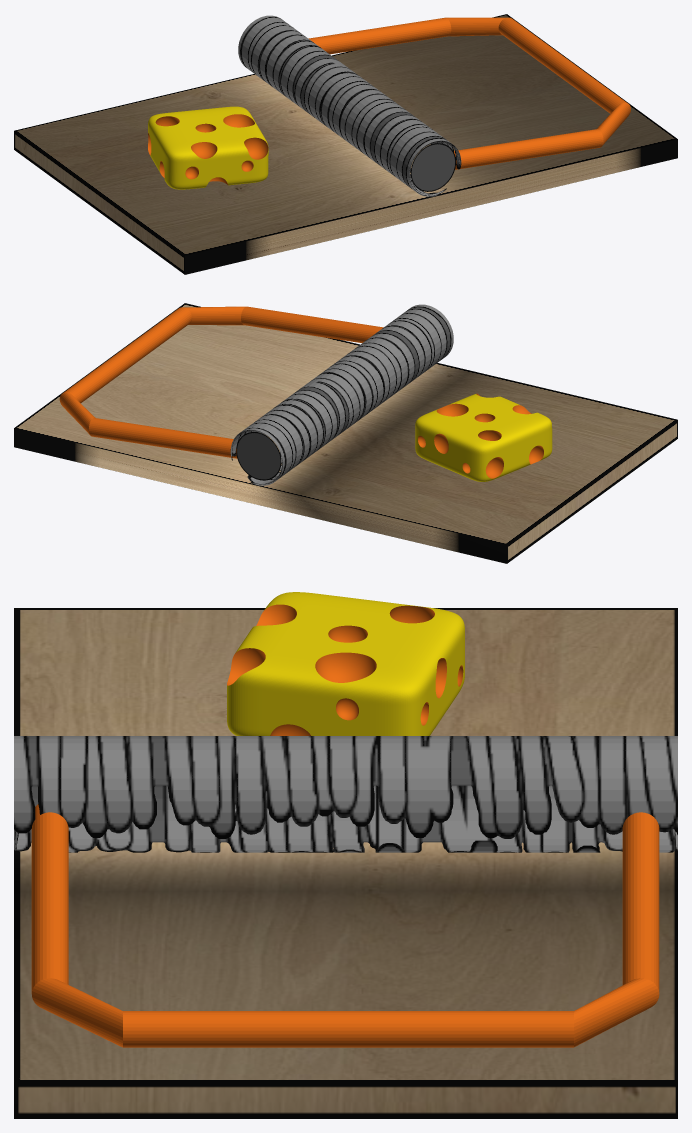
File: Mousetrap.fbx
3 renders of one model, top to bottom at view 1: azimuth 30°, elevation 25°; view 2: azimuth 150°, elevation 25°; view 3: azimuth 270°, elevation 25°, orthographic. The views are drawn at different scales.
Visible parts, largest first — view 1: Cylinder.003, Cylinder.001, Cylinder.002; view 2: Cylinder.003, Cylinder.001, Cylinder.002; view 3: Cylinder.003, Cylinder.001, Cylinder.002.
Part boxes in pixels (x1,y1,x2,y2): Cylinder.003: (14, 14, 677, 274); Cylinder.001: (238, 15, 630, 196); Cylinder.002: (148, 106, 268, 189); Cylinder.003: (14, 303, 677, 563); Cylinder.001: (59, 304, 453, 485); Cylinder.002: (415, 393, 552, 481); Cylinder.003: (14, 608, 677, 1118); Cylinder.001: (14, 736, 677, 1047); Cylinder.002: (227, 592, 464, 735).
Size of the model in its own units: 602 by 88.66 by 361.
Materials: 4 (2 with a texture image).
